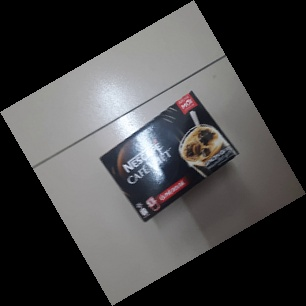CF Viet: (99, 90, 241, 223)
